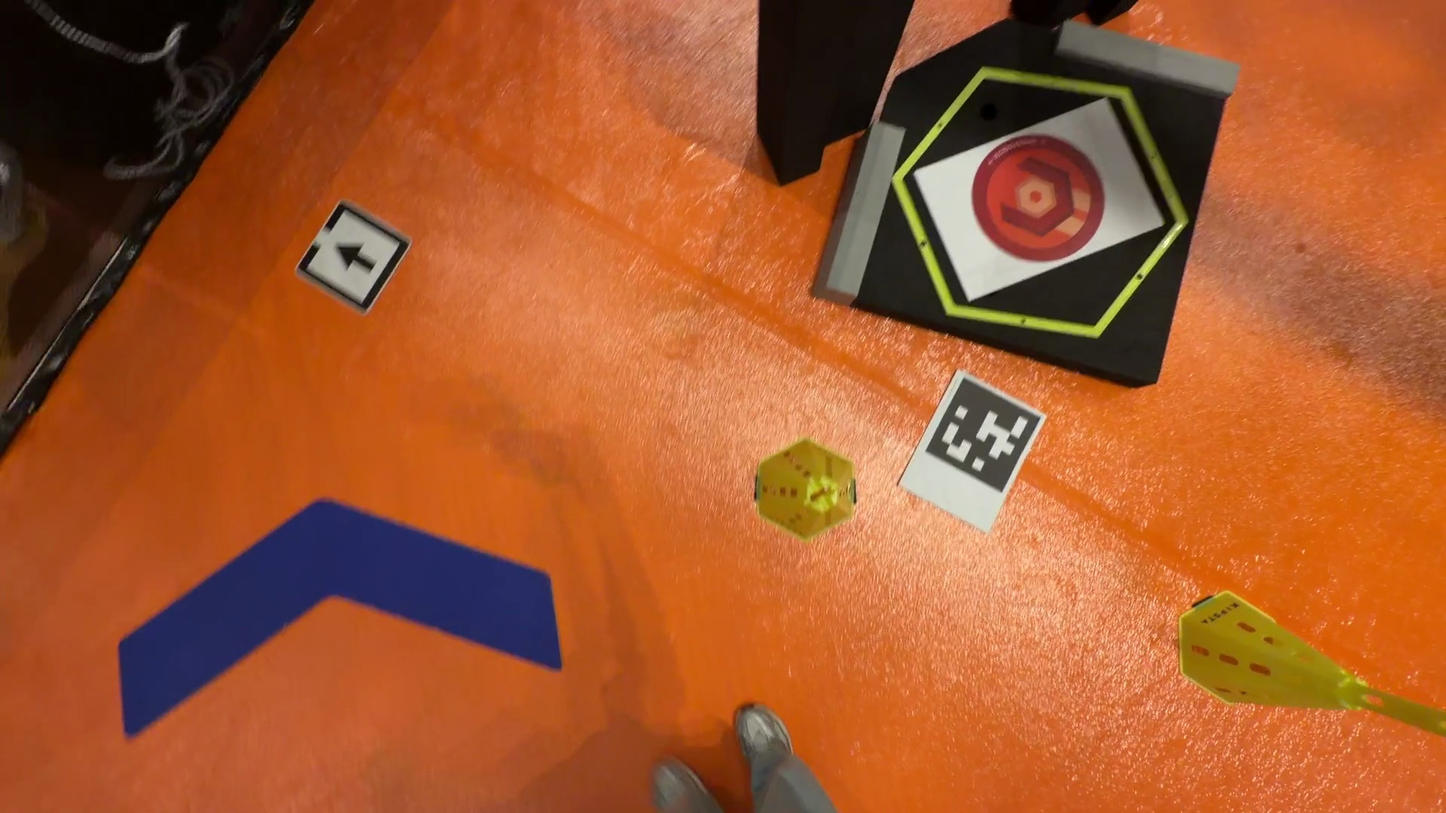landing_pad: (974, 133, 1106, 263)
